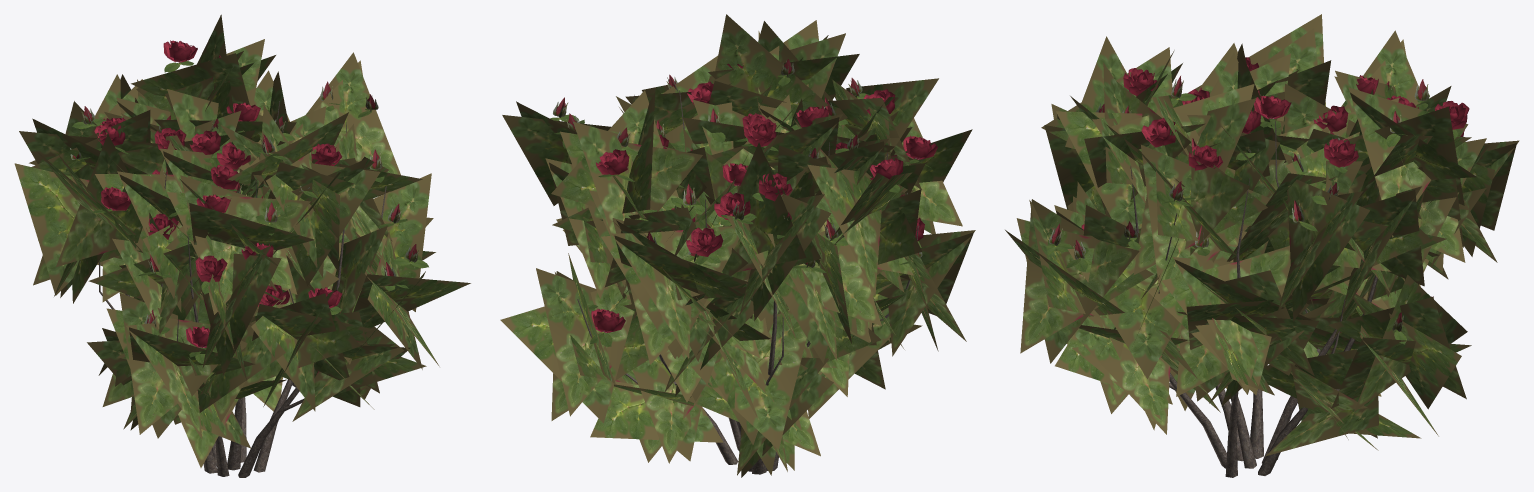
File: Rosa_Grandiflora_Spring_Adult.glb
3 views of the same model, side by side, from view 1: azimuth 30°, elevation 25°; view 2: azimuth 150°, elevation 25°; view 3: azimuth 270°, elevation 25° (orthographic). The views are drawn at different scales.
Parts seen in each view (by area): view 1: Rosa_Grandiflora_Spring_Adult__LOD3; view 2: Rosa_Grandiflora_Spring_Adult__LOD3; view 3: Rosa_Grandiflora_Spring_Adult__LOD3.
Boxes of the visible parts, x1,y1,x2,y2 form: Rosa_Grandiflora_Spring_Adult__LOD3: (14,14,470,477); Rosa_Grandiflora_Spring_Adult__LOD3: (500,14,975,477); Rosa_Grandiflora_Spring_Adult__LOD3: (1005,14,1519,477).
Bounding box in the file's own units: 1.14 × 1.13 × 1.3.
Materials: 3 (3 with a texture image).
